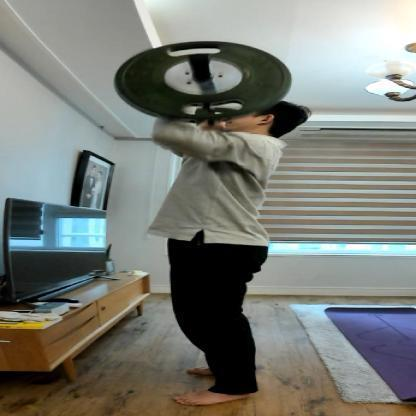barbell: (112, 40, 294, 125)
